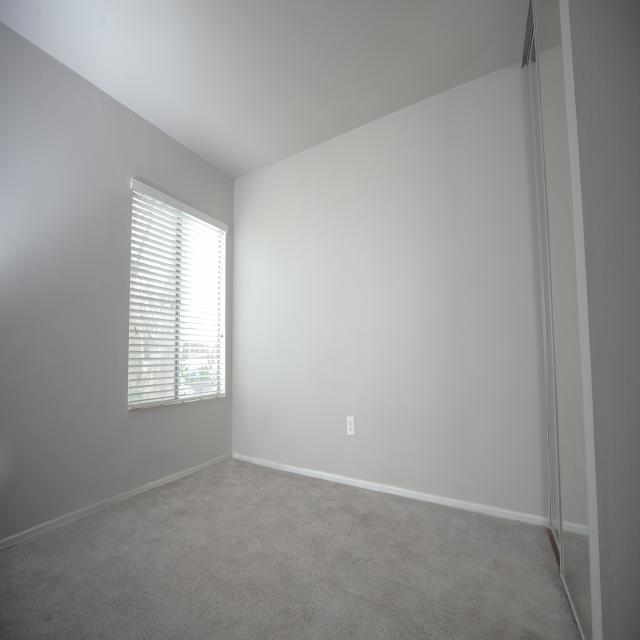floor: (0, 456, 582, 640), (563, 531, 591, 640)
